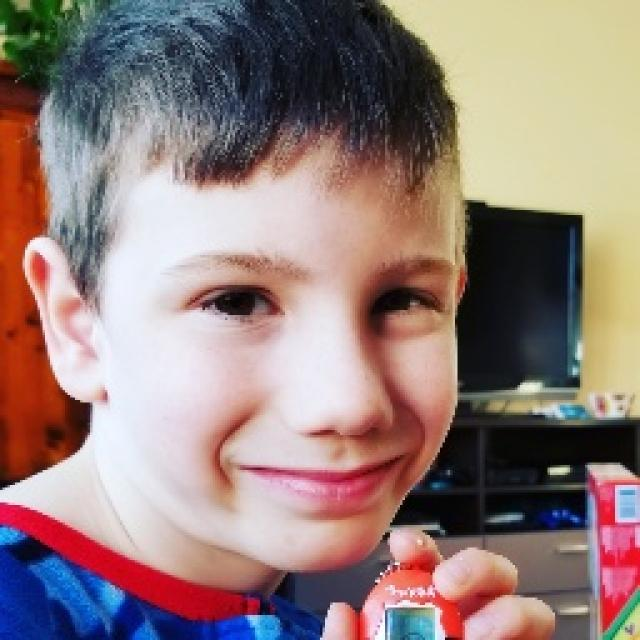earlobe: (65, 352, 112, 405)
eye: (199, 286, 279, 317), (374, 288, 438, 314)
nose: (278, 408, 413, 486)
wholeear: (22, 238, 112, 406)
